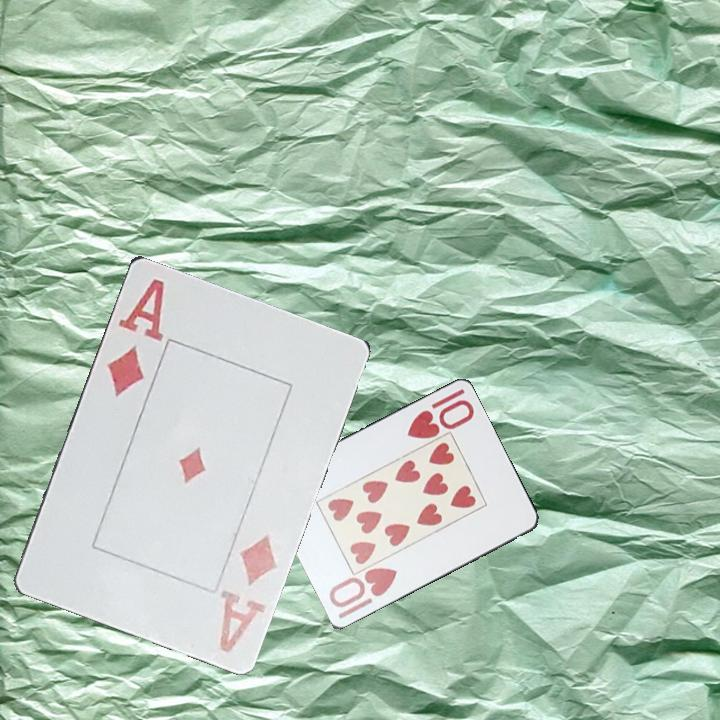Ad: (215, 529, 281, 655), (102, 274, 167, 400)
Th: (403, 385, 477, 442), (325, 564, 400, 611)
